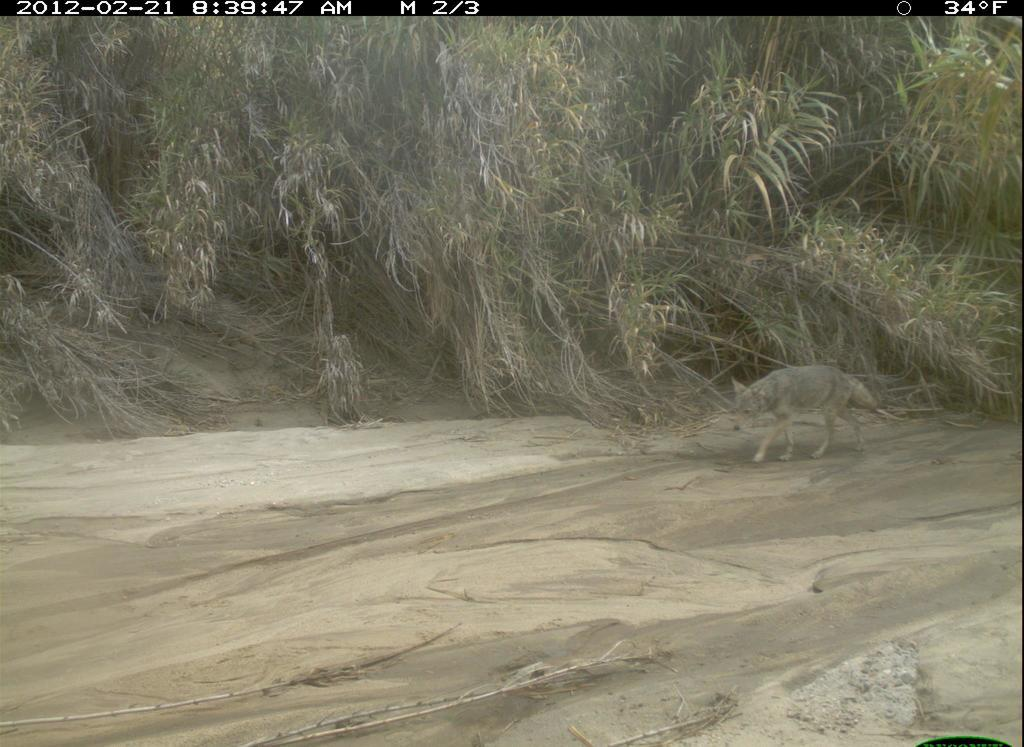coyote: (726, 360, 885, 470)
